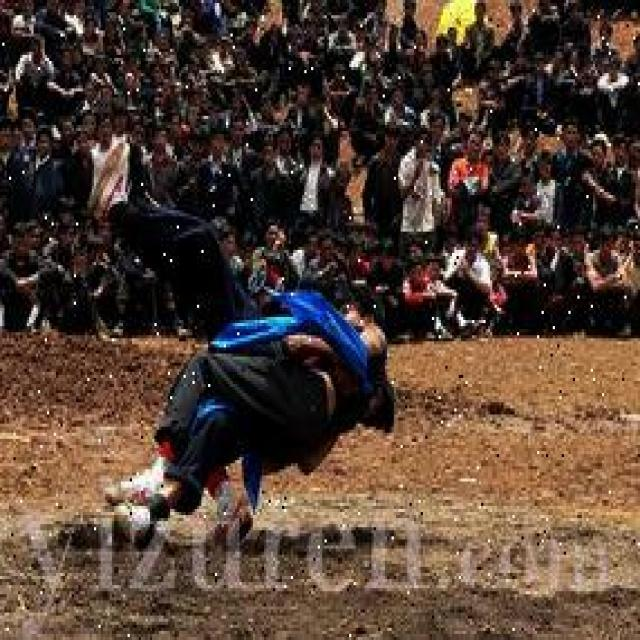fall: (116, 298, 390, 540)
